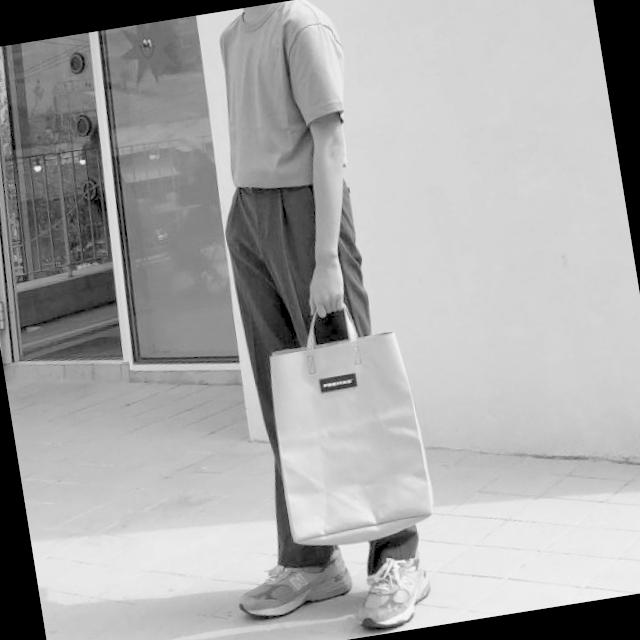shortsleeve: (205, 0, 360, 191)
slacks: (217, 161, 426, 556)
